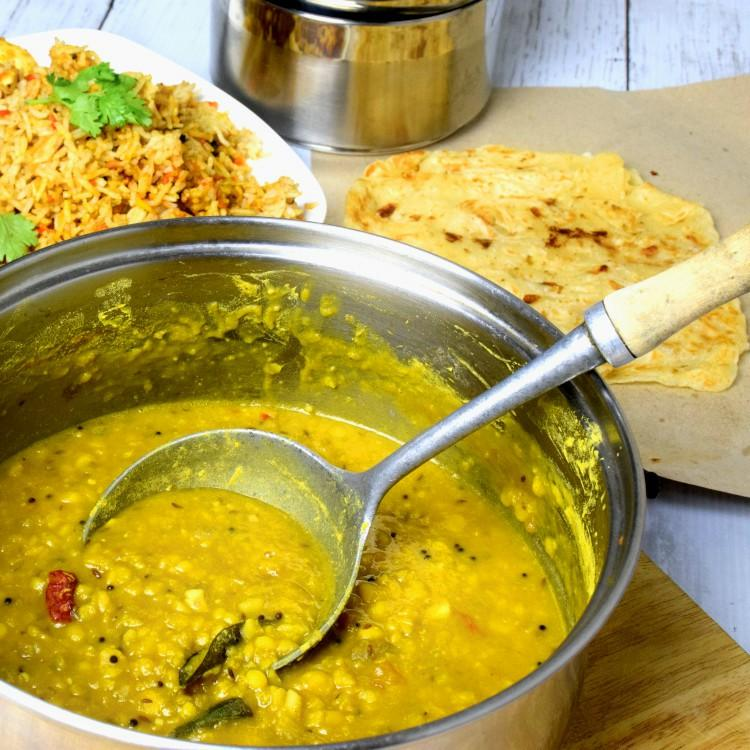Biryani: (0, 35, 310, 267)
Dal: (0, 397, 566, 746)
